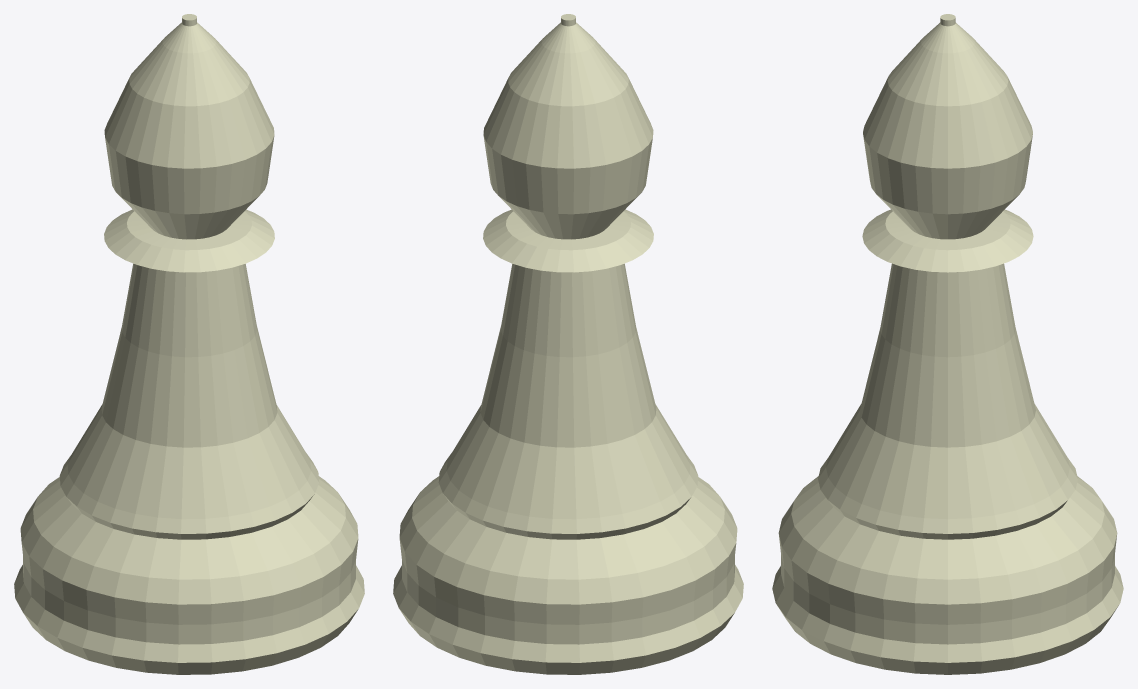
File: bishop.gltf
3 views of the same model, side by side, from view 1: azimuth 30°, elevation 25°; view 2: azimuth 150°, elevation 25°; view 3: azimuth 270°, elevation 25° (orthographic).
Visible parts, largest first — view 1: Circle; view 2: Circle; view 3: Circle.
Part boxes in pixels (x1=…): Circle: x1=14, y1=14, x2=364, y2=674; Circle: x1=393, y1=14, x2=743, y2=674; Circle: x1=772, y1=14, x2=1123, y2=674.
Size of the model in its own units: 1.76 by 3.25 by 1.76.
